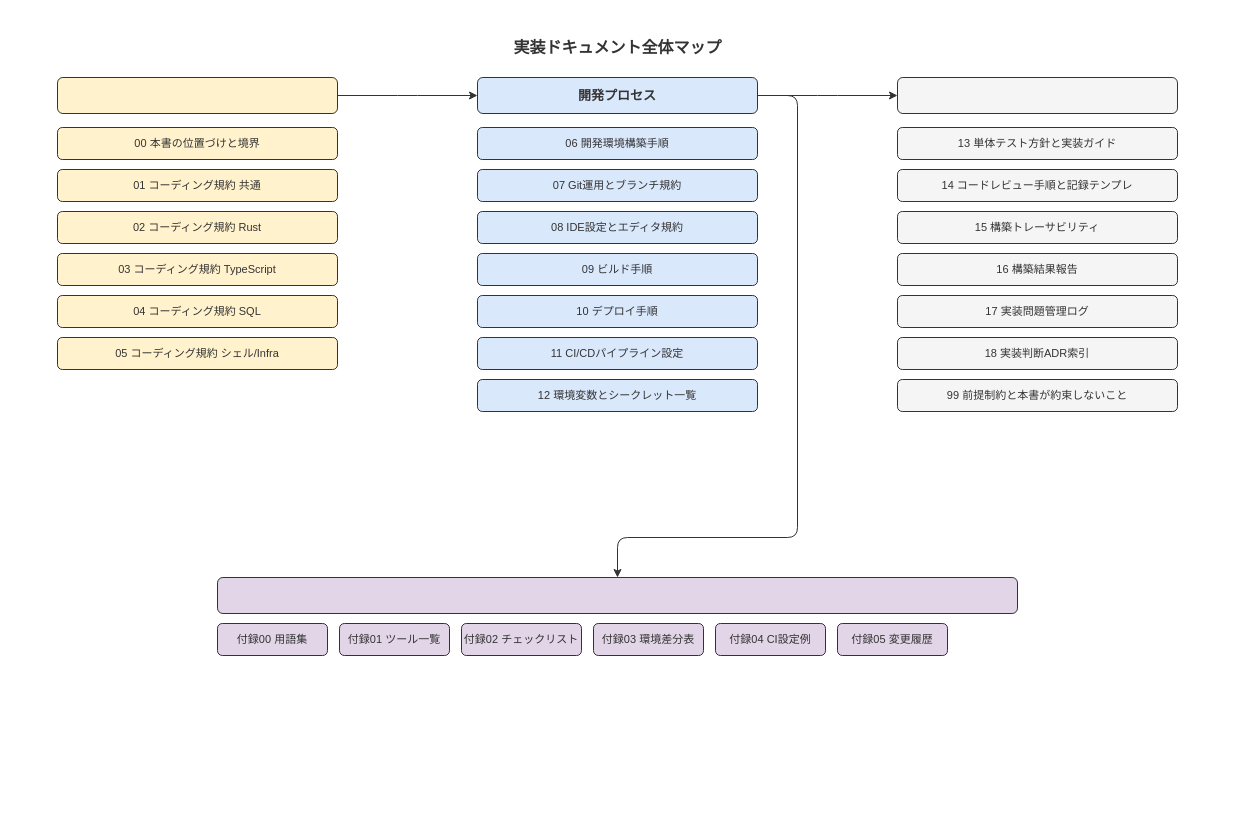
Some shapes in this 1234 by 834 pixel diagram are drawn without their labels. Each missing label, with the centre of its shape:
"コーディング規約群" belongs at (x=197, y=95).
"付録群" belongs at (x=617, y=595).
"品質・結果" belongs at (x=1037, y=95).
